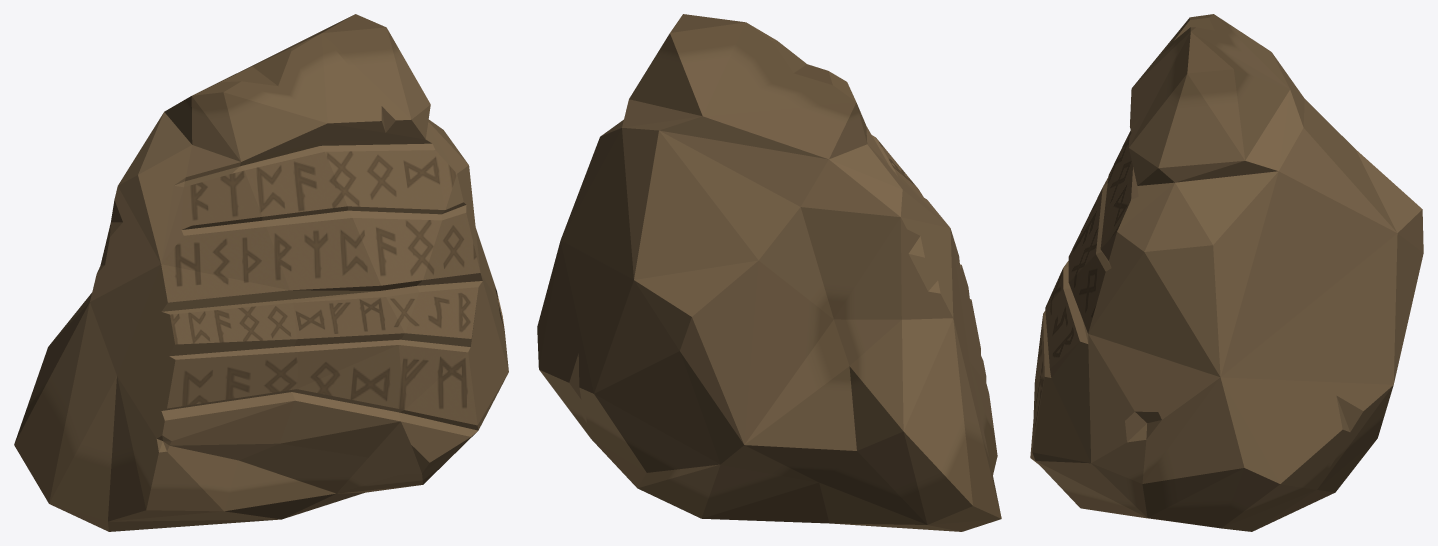
File: SM_Prop_RuneStone_03.fbx
The picture shows the model from 3 angles, left to right: view 1: azimuth 30°, elevation 25°; view 2: azimuth 150°, elevation 25°; view 3: azimuth 270°, elevation 25°; orthographic projection. The views are drawn at different scales.
Visible parts, largest first — view 1: SM_Prop_RuneStone_03; view 2: SM_Prop_RuneStone_03; view 3: SM_Prop_RuneStone_03.
Part boxes in pixels (bbox=[...]): SM_Prop_RuneStone_03: bbox=[14, 14, 508, 531]; SM_Prop_RuneStone_03: bbox=[537, 14, 1001, 531]; SM_Prop_RuneStone_03: bbox=[1030, 14, 1423, 531].
Bounding box in the file's own units: 278 × 268 × 201.
